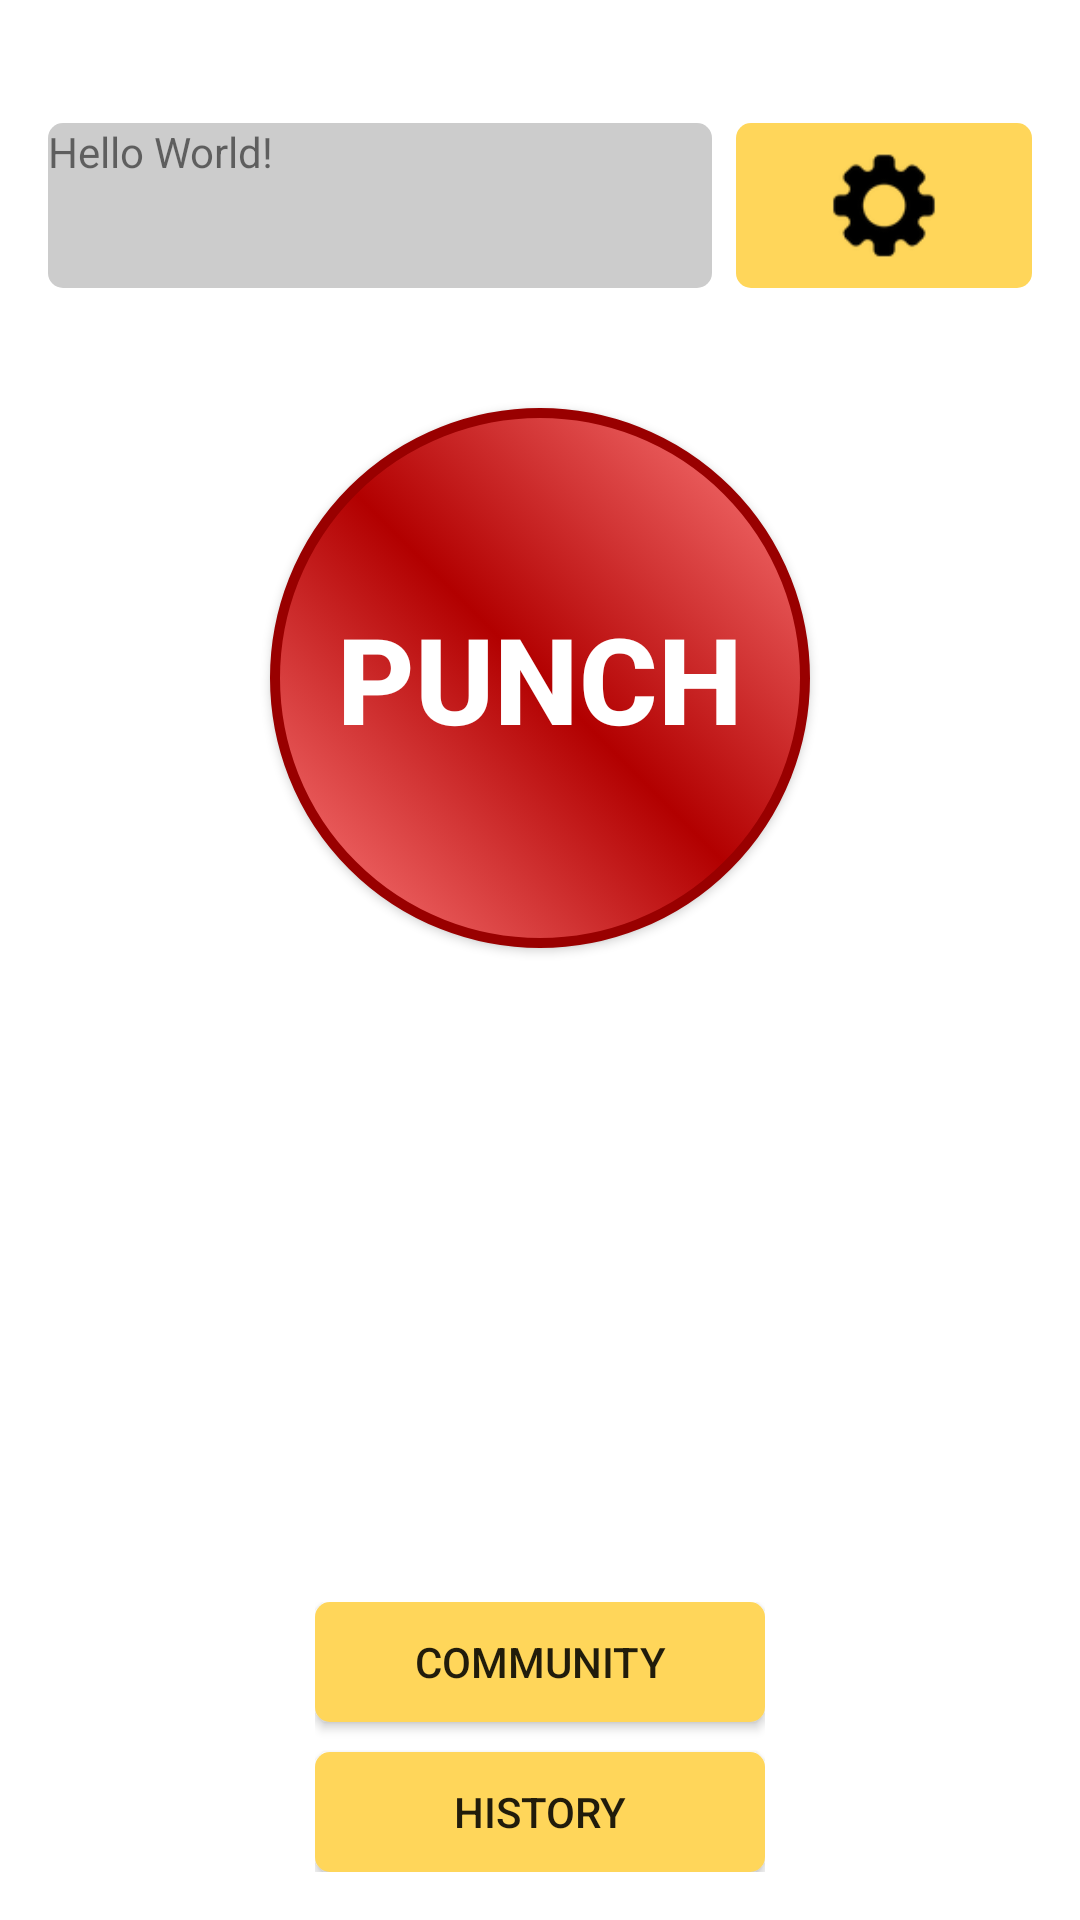

Where to tap for icons on this 1080px x 1920px app screen, as (x,y):
Settings: (884,205)
